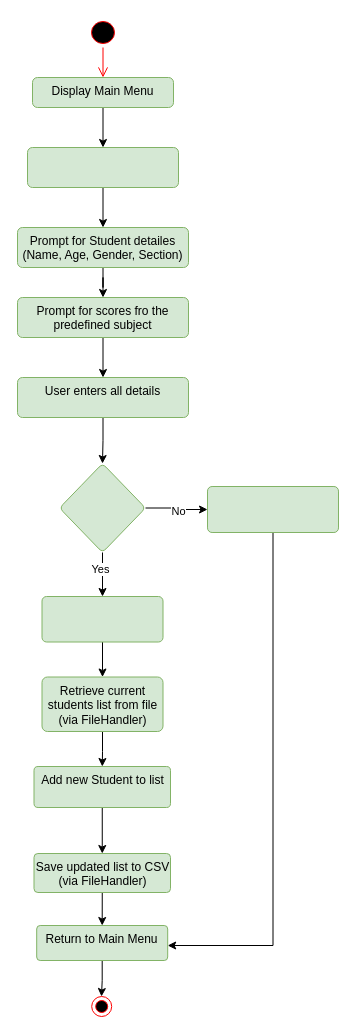
Some shapes in this 356 by 1034 pixel diagram are drawn without their labels. Each missing label, with the centre of its shape:
Are in put values valid?: [102,507]
Create student record (instantiate Student): [102,619]
Throws "Invalid input " excepion: [272,509]
User selects option "Add Student": [102,167]
